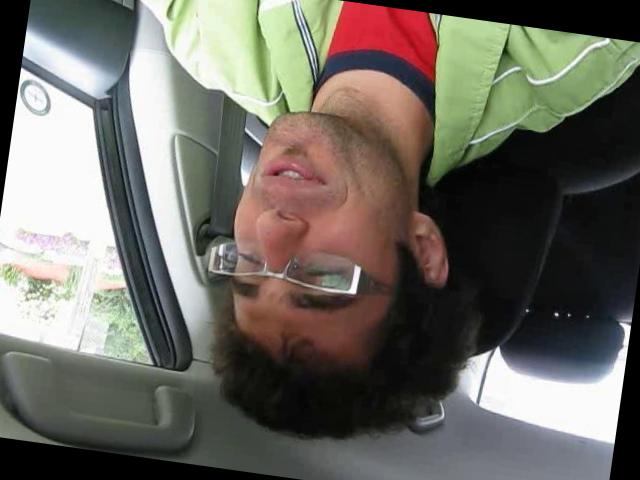eye_closed: (300, 256, 356, 293), (230, 246, 275, 282)
face: (215, 108, 408, 340)
